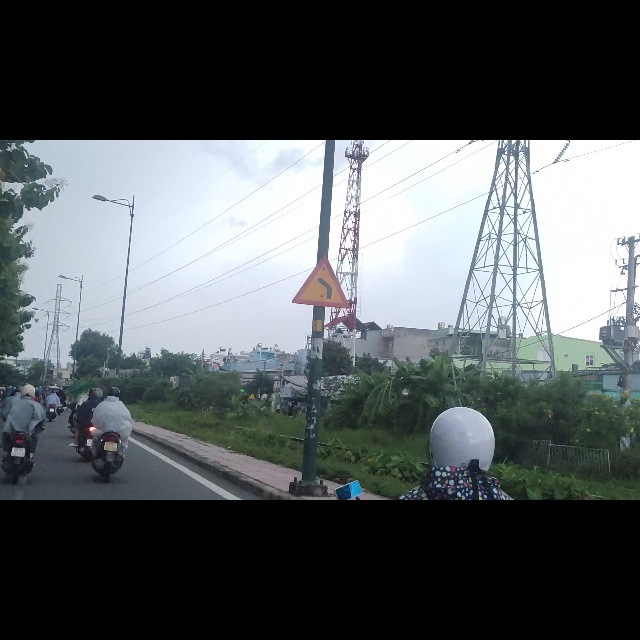bien_nguy_hiem: (292, 209, 351, 297)
